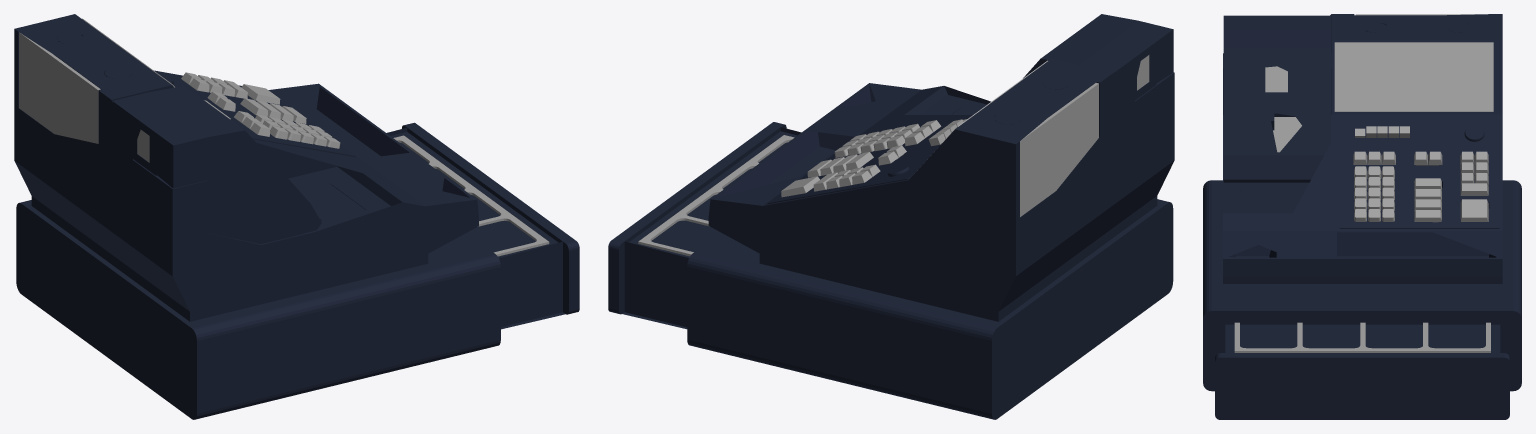
The model's file is CajaRegistradora.FBX.
3 views of the same model, side by side, from view 1: azimuth 30°, elevation 25°; view 2: azimuth 150°, elevation 25°; view 3: azimuth 270°, elevation 25° (orthographic). The views are drawn at different scales.
Visible parts, largest first — view 1: CajaRegistradora; view 2: CajaRegistradora; view 3: CajaRegistradora.
Part boxes in pixels (x1,y1,x2,y2): CajaRegistradora: (14, 14, 579, 419); CajaRegistradora: (608, 14, 1174, 419); CajaRegistradora: (1203, 14, 1521, 419).
Size of the model in its own units: 10.89 by 7.06 by 8.47.
